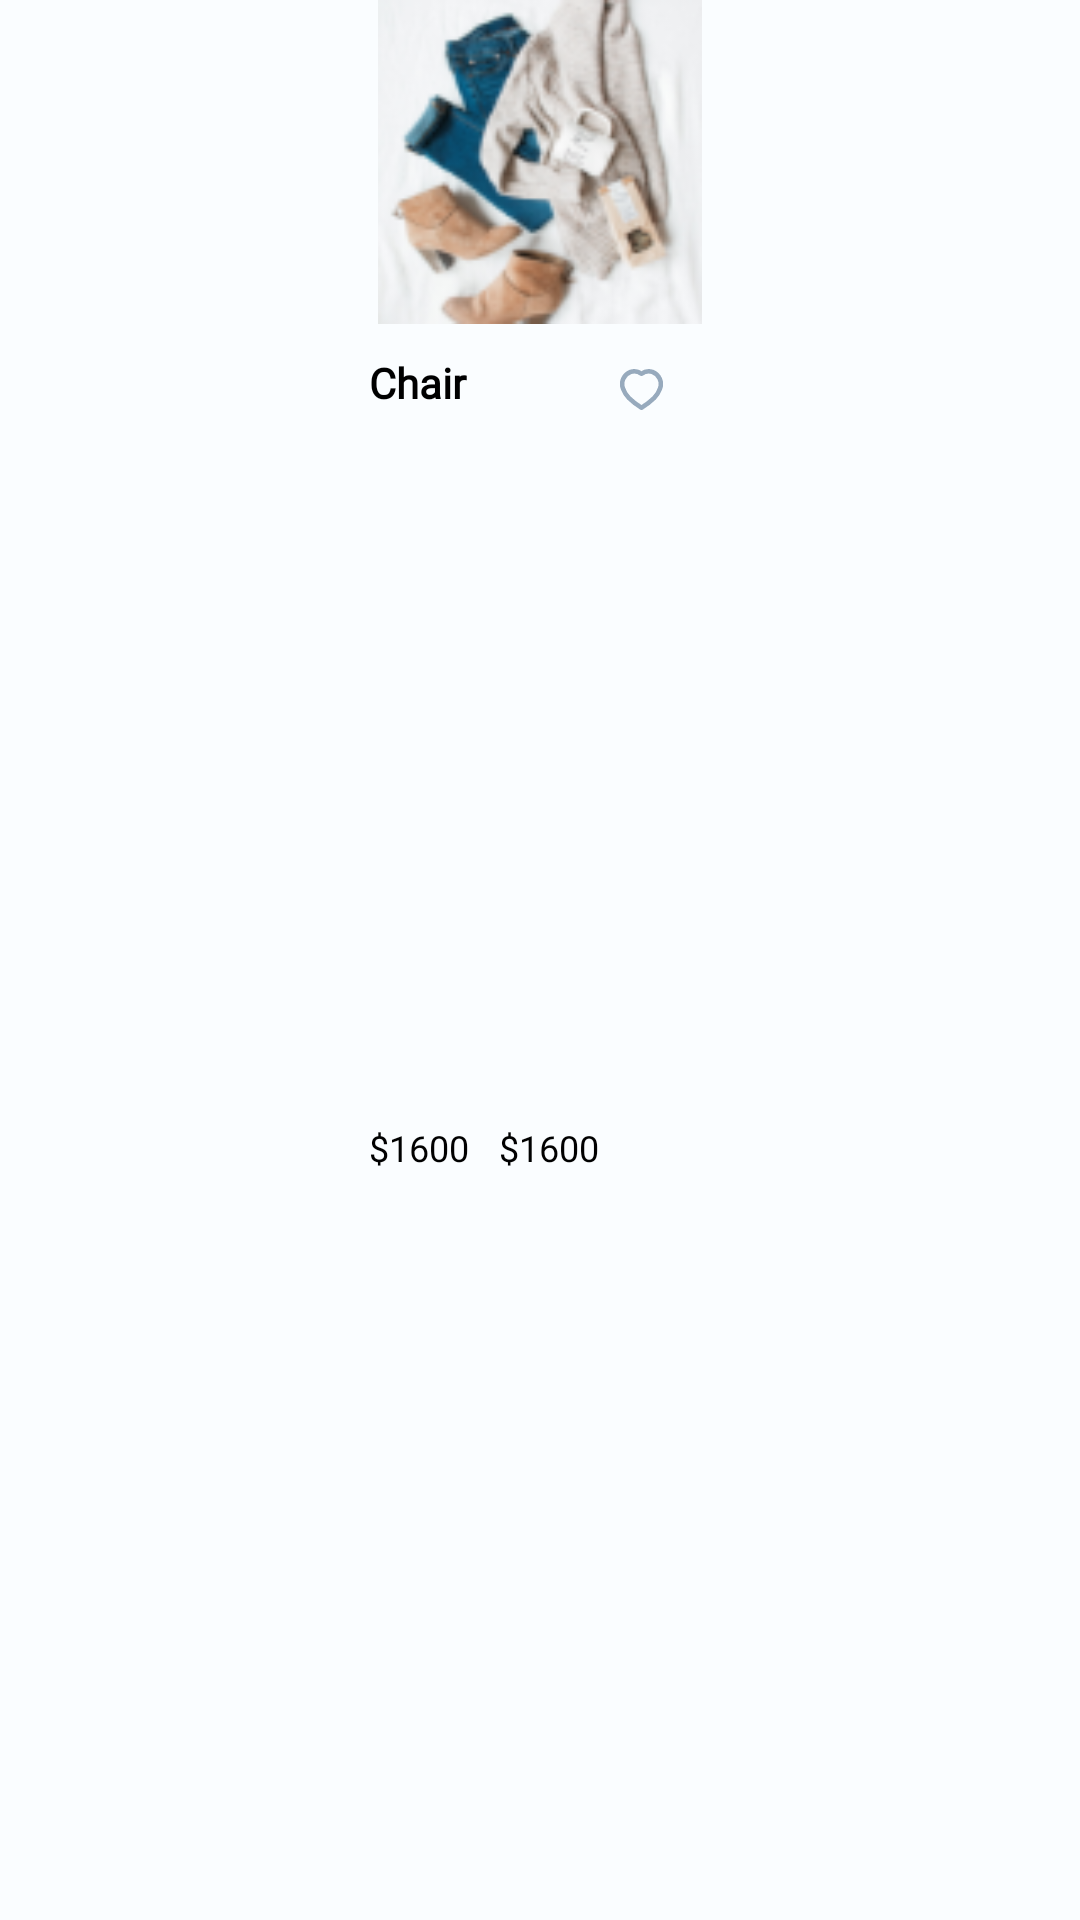

Named icons in this screenshot (1080px x 1920px) and their centers, (x,y):
favorite: (641,389)
